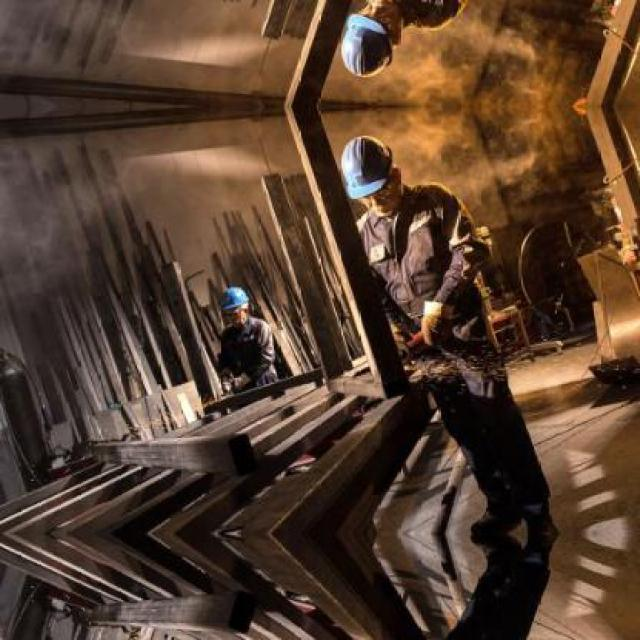helmet: (336, 133, 406, 214), (336, 0, 406, 80), (218, 285, 253, 324)
